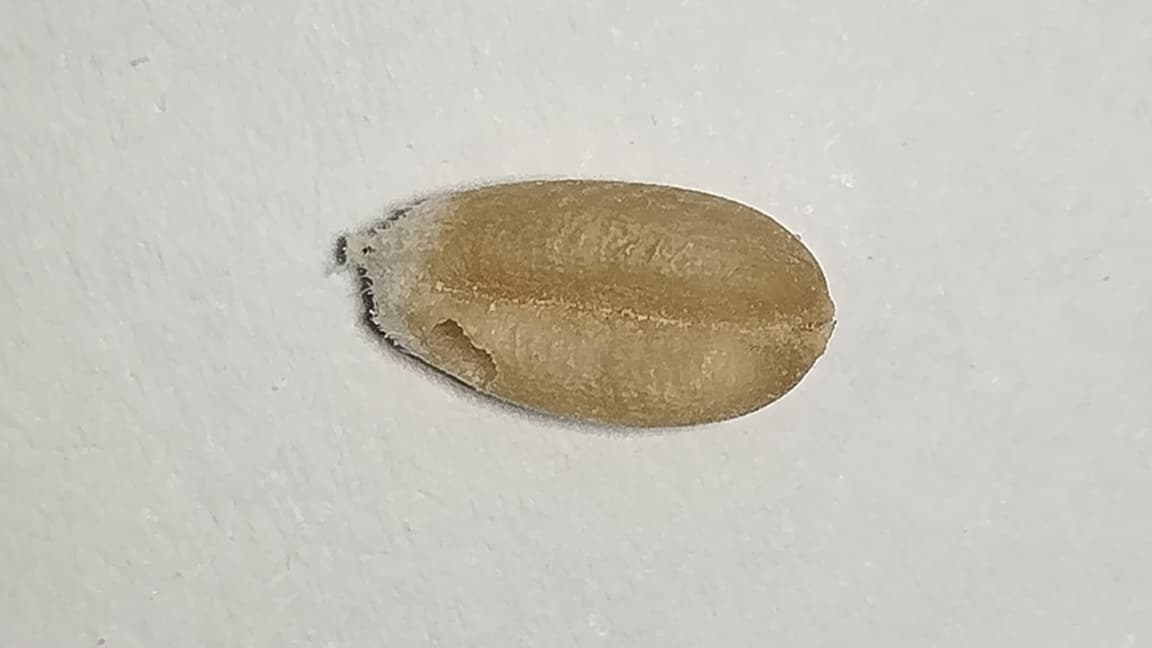damage: (348, 179, 832, 426)
insectdamage: (405, 292, 523, 395)
